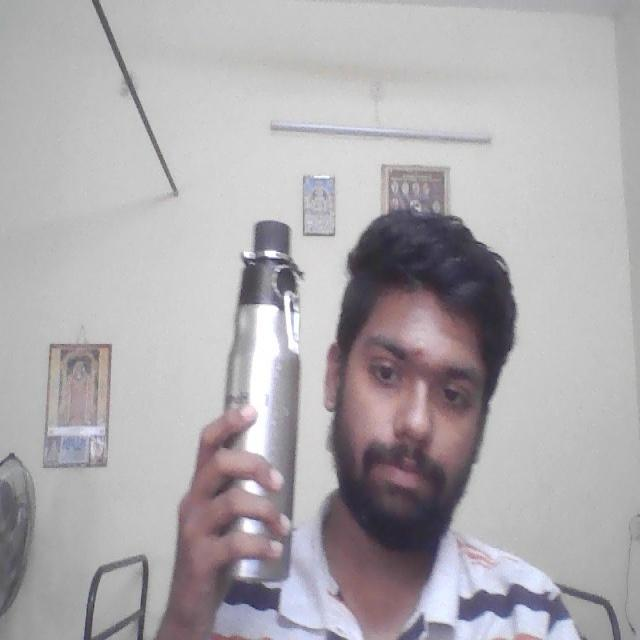Drinking: (220, 213, 309, 586)
